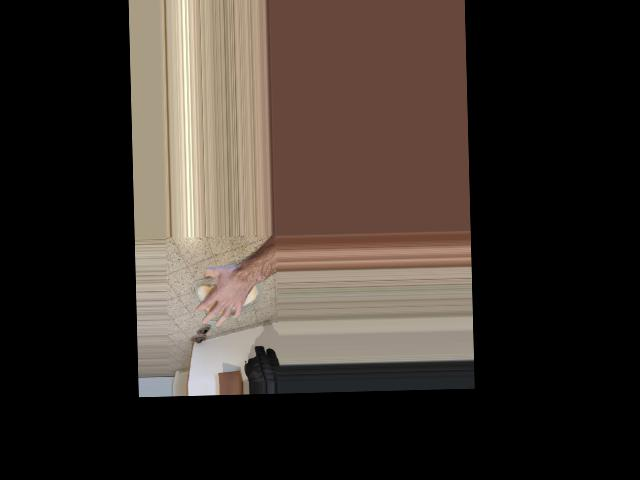cheese: (193, 259, 260, 325)
